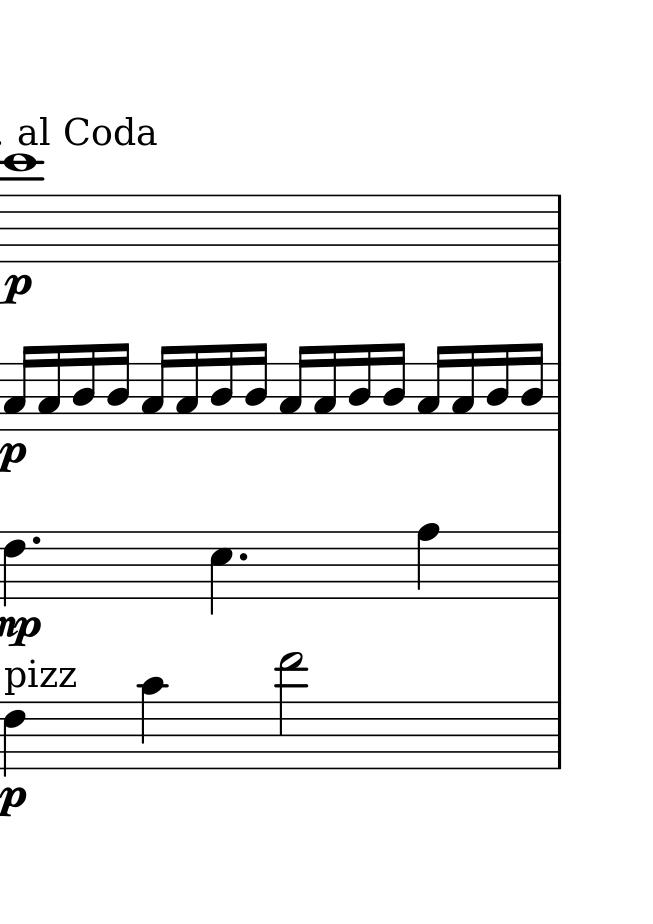16_3: (136, 343, 175, 430), (1, 343, 39, 431), (277, 343, 311, 432), (417, 343, 449, 434), (312, 342, 340, 433), (450, 342, 478, 432), (36, 342, 63, 432), (175, 344, 201, 433)
16_4: (346, 341, 373, 433), (519, 339, 545, 433), (243, 342, 270, 431), (382, 341, 407, 435), (72, 342, 98, 432), (105, 340, 130, 432), (211, 341, 236, 431), (487, 342, 512, 432)
1_12: (1, 149, 38, 262)
2_13: (275, 651, 308, 774)
4_10: (137, 675, 168, 771)
4_5: (208, 528, 235, 617)
4_6: (1, 698, 33, 784)
4_8: (414, 521, 442, 602), (2, 529, 27, 606)
Single_barline: (548, 702, 567, 769), (550, 194, 567, 263), (549, 532, 566, 599), (550, 362, 566, 433)
dot: (29, 532, 43, 549), (235, 550, 249, 564)
p: (1, 270, 35, 310), (1, 783, 28, 822), (1, 440, 27, 477)
